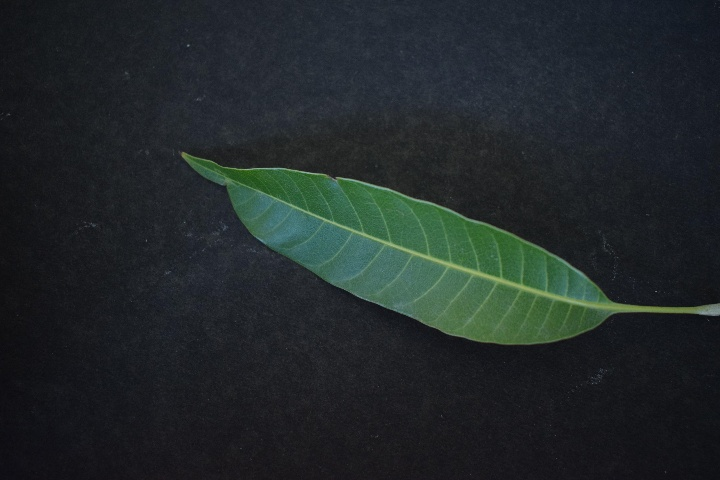healthy: (183, 145, 616, 354)
